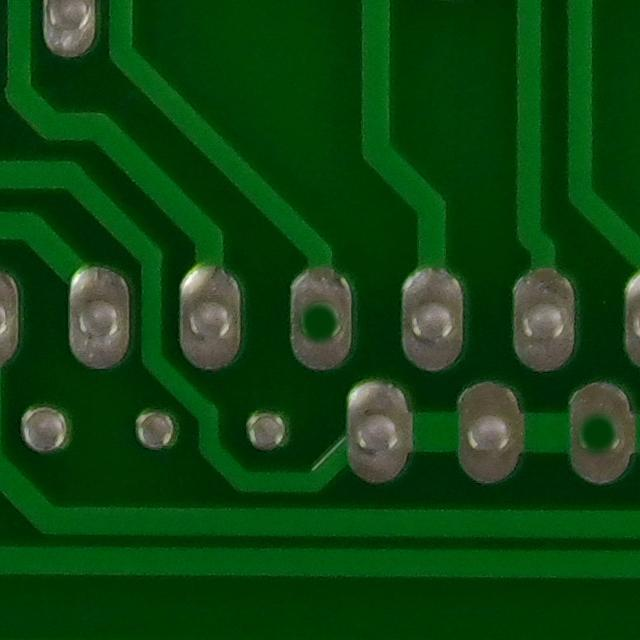missing_hole: (281, 276, 359, 364)
